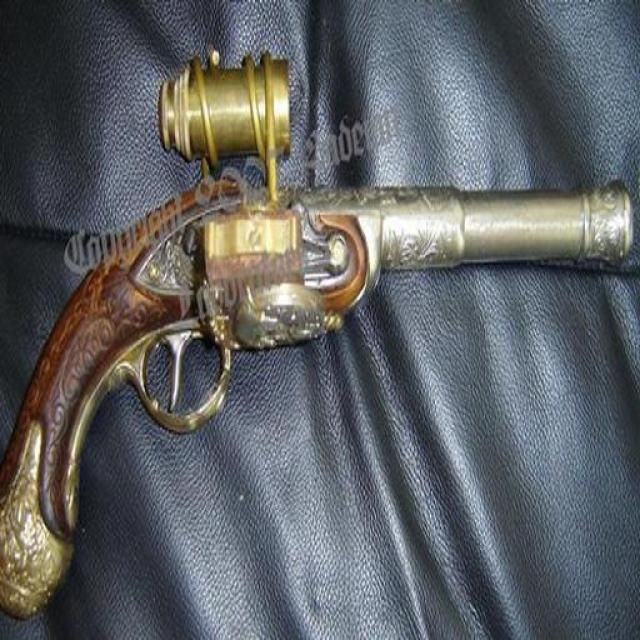pistol: (1, 43, 631, 614)
